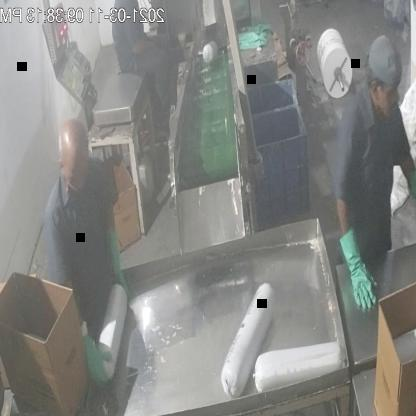glove: (339, 216, 380, 322), (82, 316, 117, 398), (102, 223, 130, 305), (407, 161, 416, 240)
no_glove: (132, 31, 164, 67)
